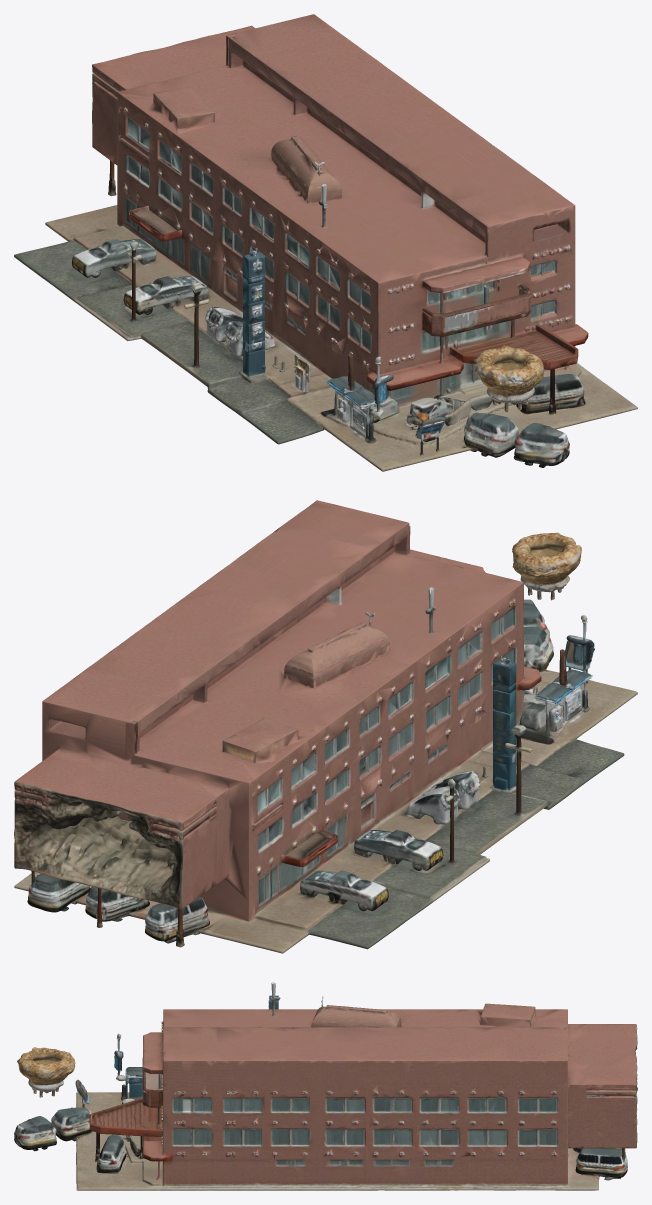
The model's file is Hirashima_hospital_building.glb.
The picture shows the model from 3 angles, top to bottom: view 1: azimuth 30°, elevation 25°; view 2: azimuth 150°, elevation 25°; view 3: azimuth 270°, elevation 25°; orthographic projection. The views are drawn at different scales.
Parts seen in each view (by area): view 1: tripo_node_aa886600-69ba-4686-9f21-c154cc01a0e0; view 2: tripo_node_aa886600-69ba-4686-9f21-c154cc01a0e0; view 3: tripo_node_aa886600-69ba-4686-9f21-c154cc01a0e0.
Boxes of the visible parts, x1,y1,x2,y2 form: tripo_node_aa886600-69ba-4686-9f21-c154cc01a0e0: (14, 14, 637, 471); tripo_node_aa886600-69ba-4686-9f21-c154cc01a0e0: (14, 500, 637, 953); tripo_node_aa886600-69ba-4686-9f21-c154cc01a0e0: (14, 982, 637, 1190).
Size of the model in its own units: 0.4407 by 0.2442 by 0.9809.
1 material, 1 textured.
